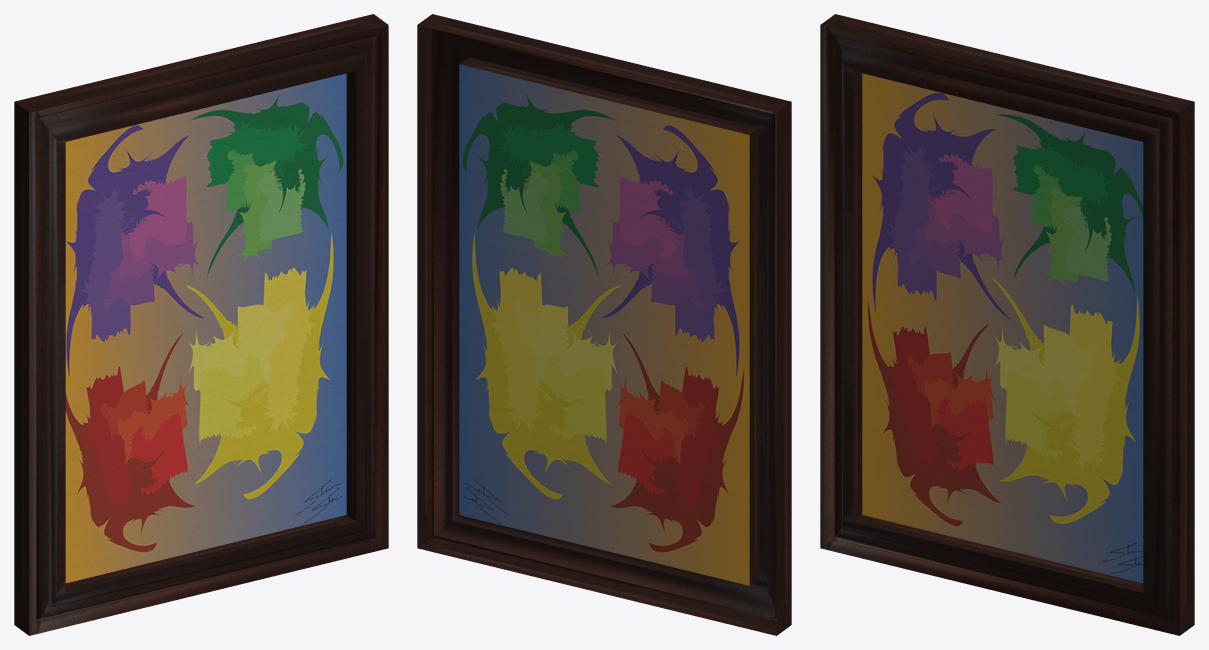
Rendered from RoomArt1.FBX.
3 renders of one model, left to right at view 1: azimuth 30°, elevation 25°; view 2: azimuth 150°, elevation 25°; view 3: azimuth 330°, elevation 25°, orthographic.
Visible parts, largest first — view 1: Box001; view 2: Box001; view 3: Box001.
Boxes of the visible parts, left/top/right/bottom form: Box001: left=14, top=14, right=388, bottom=635; Box001: left=417, top=14, right=791, bottom=635; Box001: left=820, top=14, right=1194, bottom=635.
Bounding box in the file's own units: 106 × 147 × 8.71.
